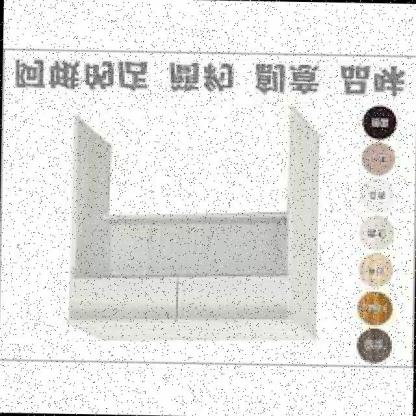Table: (39, 100, 343, 358)
